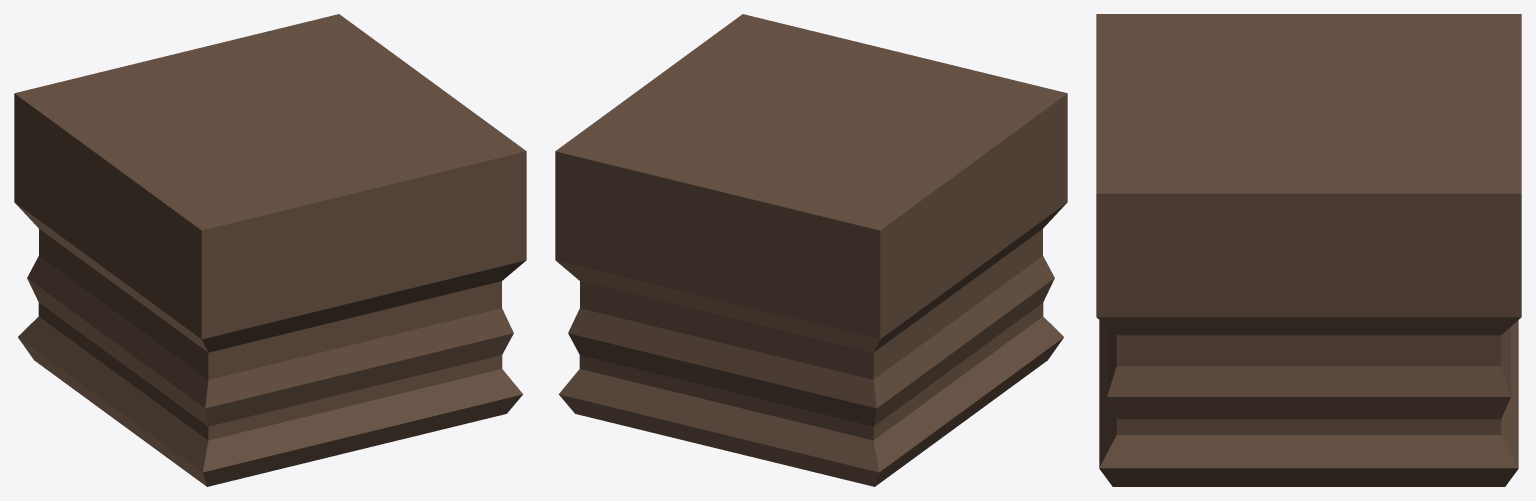
The model's file is roof tile darker.fbx.
The picture shows the model from 3 angles, left to right: view 1: azimuth 30°, elevation 25°; view 2: azimuth 150°, elevation 25°; view 3: azimuth 270°, elevation 25°; orthographic projection. The views are drawn at different scales.
Visible parts, largest first — view 1: roof tile.001; view 2: roof tile.001; view 3: roof tile.001.
Boxes of the visible parts, left/top/right/bottom form: roof tile.001: left=14, top=14, right=526, bottom=486; roof tile.001: left=555, top=14, right=1067, bottom=486; roof tile.001: left=1096, top=14, right=1521, bottom=486.
Bounding box in the file's own units: 400 × 311 × 400.
